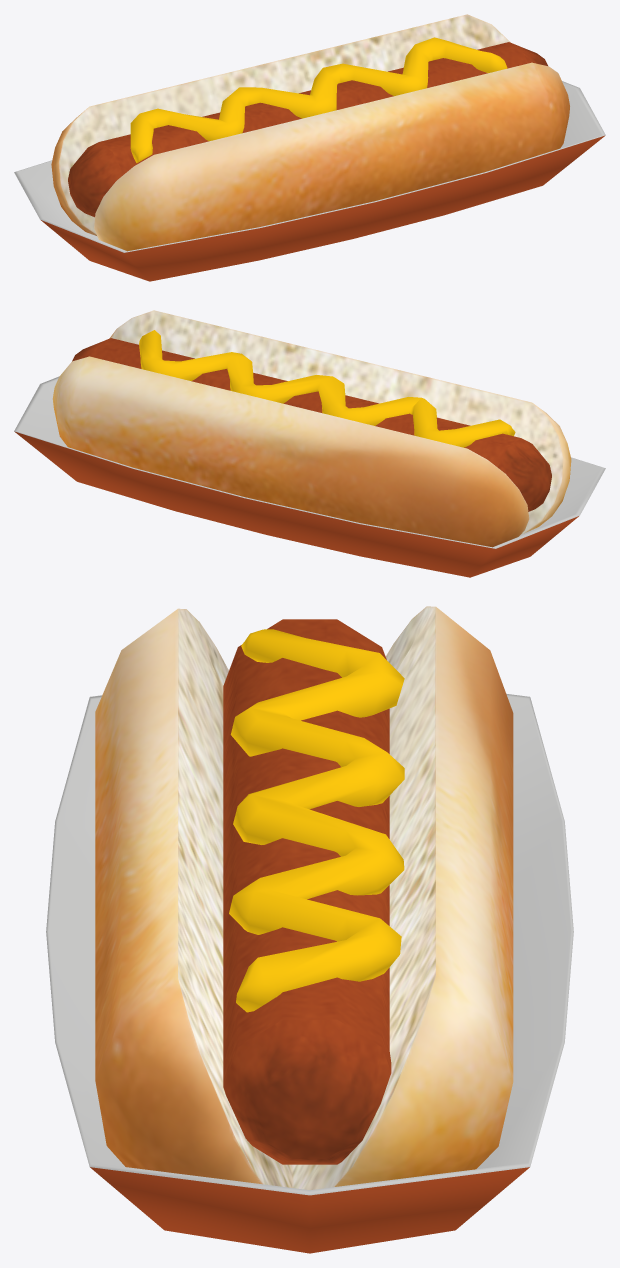
Rendered from Hotdog_Low_Poly_Food_G06.glb.
3 renders of one model, top to bottom at view 1: azimuth 30°, elevation 25°; view 2: azimuth 150°, elevation 25°; view 3: azimuth 270°, elevation 25°, orthographic. The views are drawn at different scales.
Parts seen in each view (by area): view 1: Hotdog_Hotdog_0; view 2: Hotdog_Hotdog_0; view 3: Hotdog_Hotdog_0.
Boxes of the visible parts, <box> form: Hotdog_Hotdog_0: <box>14,14,605,281</box>; Hotdog_Hotdog_0: <box>14,310,605,577</box>; Hotdog_Hotdog_0: <box>46,606,573,1253</box>.
Bounding box in the file's own units: 397 × 86.79 × 168.
Materials: 1 (1 with a texture image).
